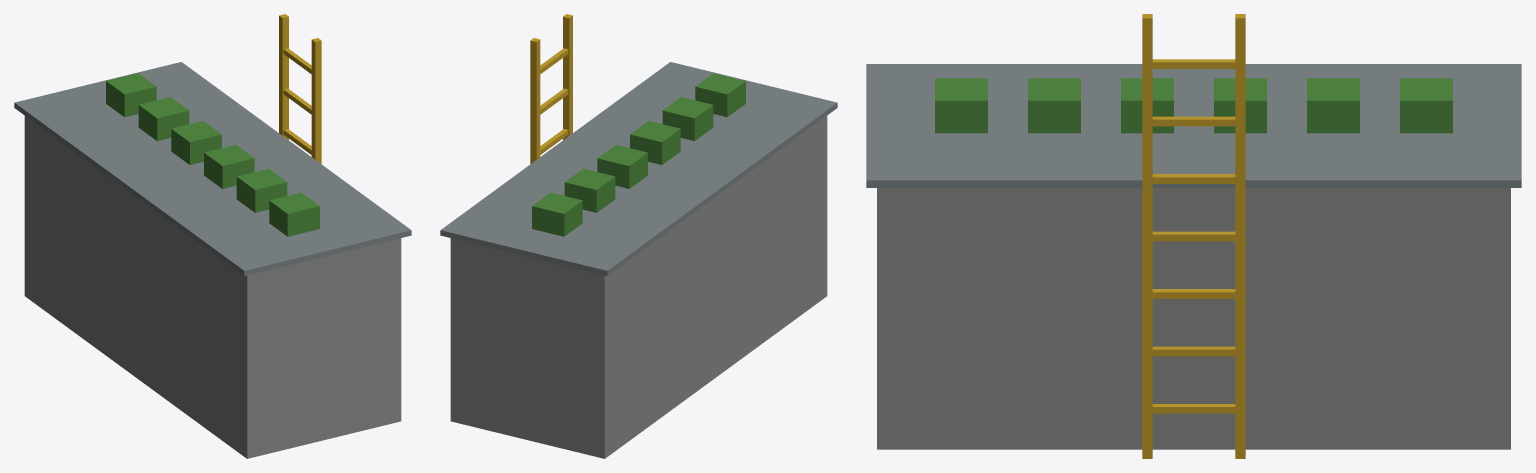
Rendered from planter_tier.glb.
3 renders of one model, left to right at view 1: azimuth 30°, elevation 25°; view 2: azimuth 150°, elevation 25°; view 3: azimuth 270°, elevation 25°, orthographic. The views are drawn at different scales.
Visible parts, largest first — view 1: planter_tier; view 2: planter_tier; view 3: planter_tier.
Boxes of the visible parts, x1,y1,x2,y2 form: planter_tier: (14, 14, 411, 458); planter_tier: (440, 14, 837, 458); planter_tier: (866, 14, 1521, 458).
Size of the model in its own units: 1.35 by 2.3 by 3.1.
